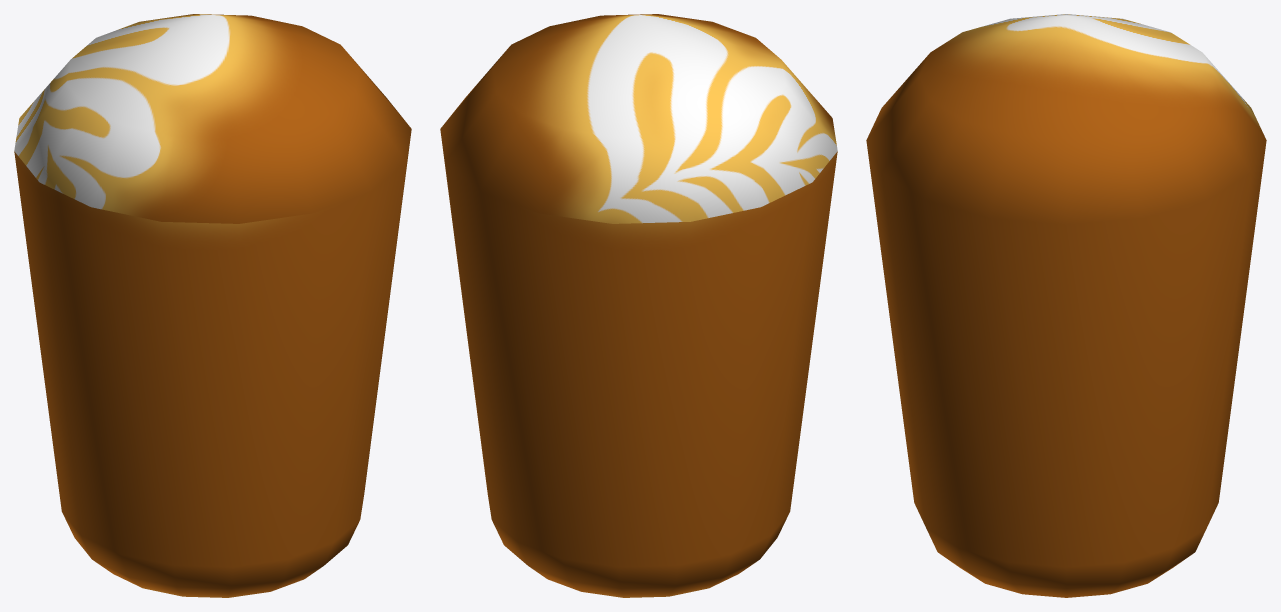
The model's file is GlassMug_Large_Liquid_02.fbx.
3 views of the same model, side by side, from view 1: azimuth 30°, elevation 25°; view 2: azimuth 150°, elevation 25°; view 3: azimuth 270°, elevation 25° (orthographic).
Parts seen in each view (by area): view 1: GlassMug_Large_Liquid_02; view 2: GlassMug_Large_Liquid_02; view 3: GlassMug_Large_Liquid_02.
Boxes of the visible parts, x1=… form: GlassMug_Large_Liquid_02: x1=14, y1=14, x2=411, y2=597; GlassMug_Large_Liquid_02: x1=440, y1=14, x2=837, y2=597; GlassMug_Large_Liquid_02: x1=866, y1=14, x2=1266, y2=597.
Bounding box in the file's own units: 30.83 × 46.66 × 30.83.
